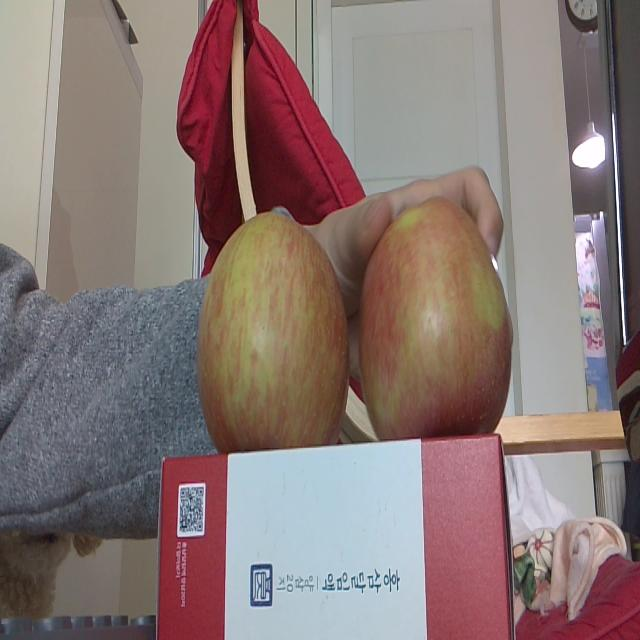apple: (358, 200, 512, 432), (197, 207, 348, 442)
